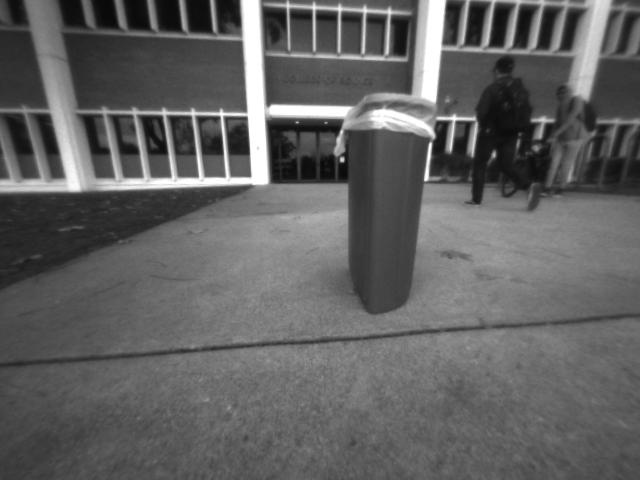trashcan_open: (331, 90, 447, 322)
